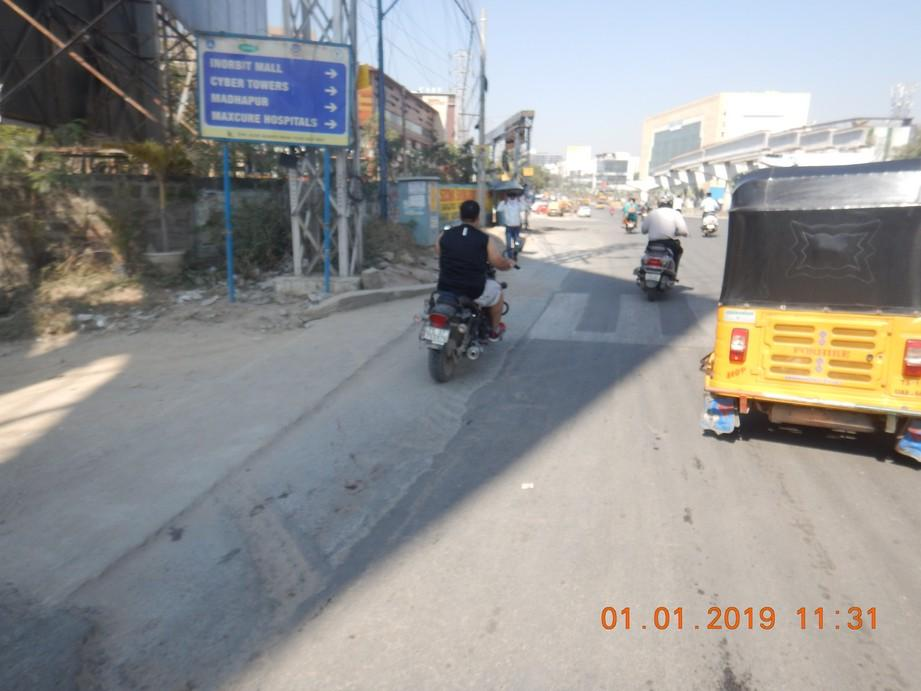plate: (422, 325, 448, 348)
